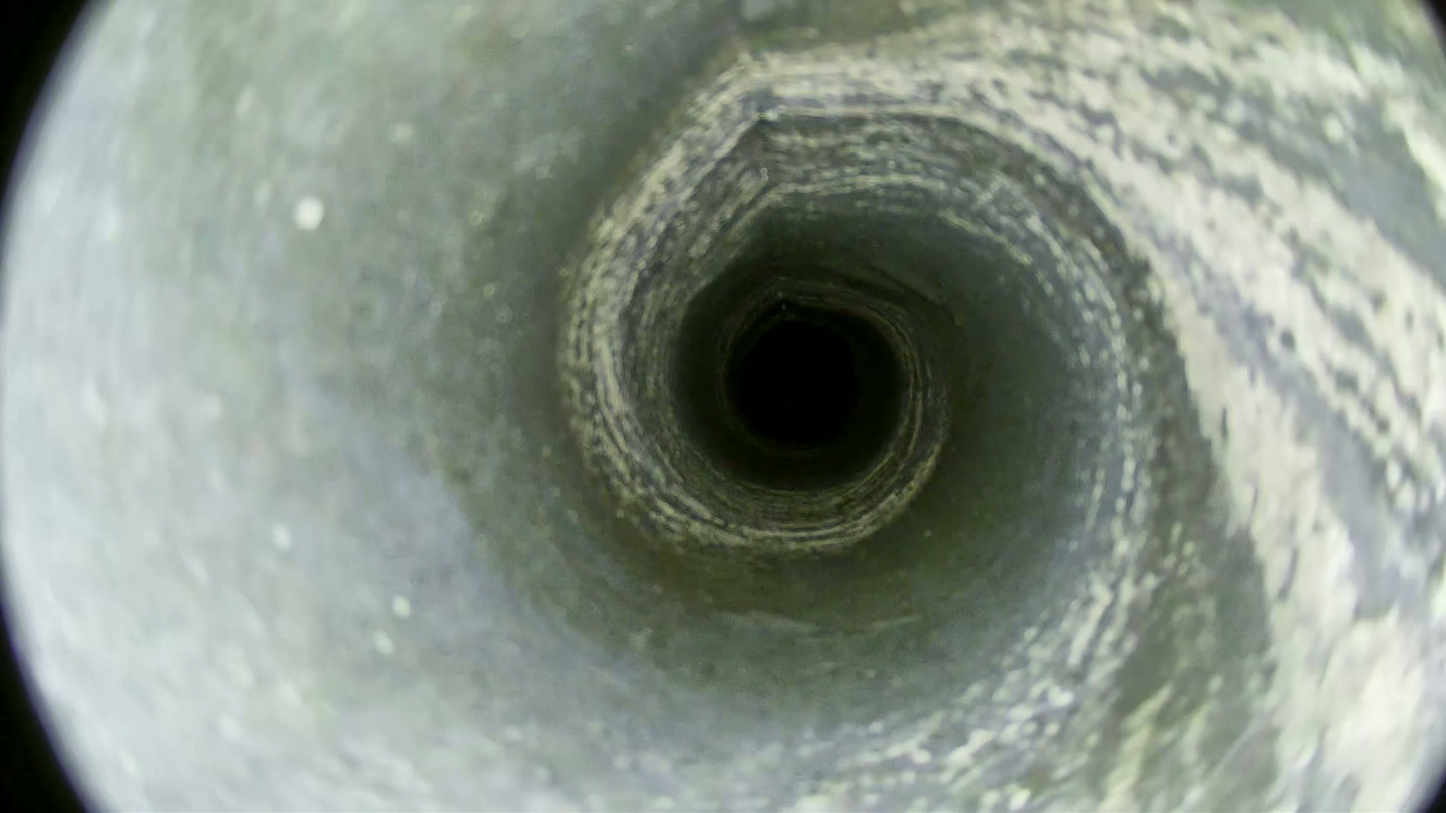hole: (740, 325, 857, 443)
